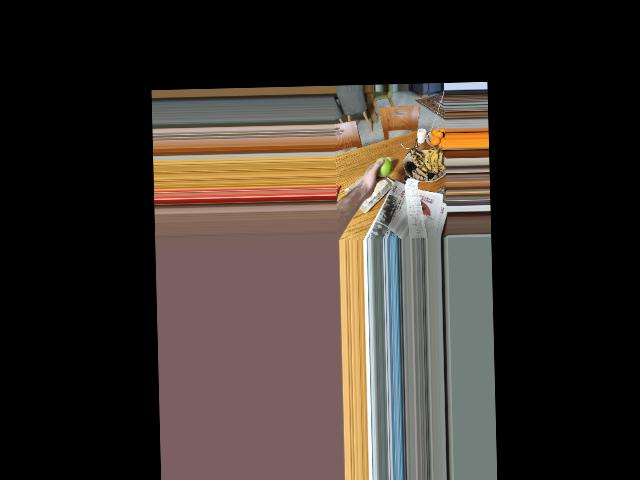apple: (371, 156, 392, 179)
